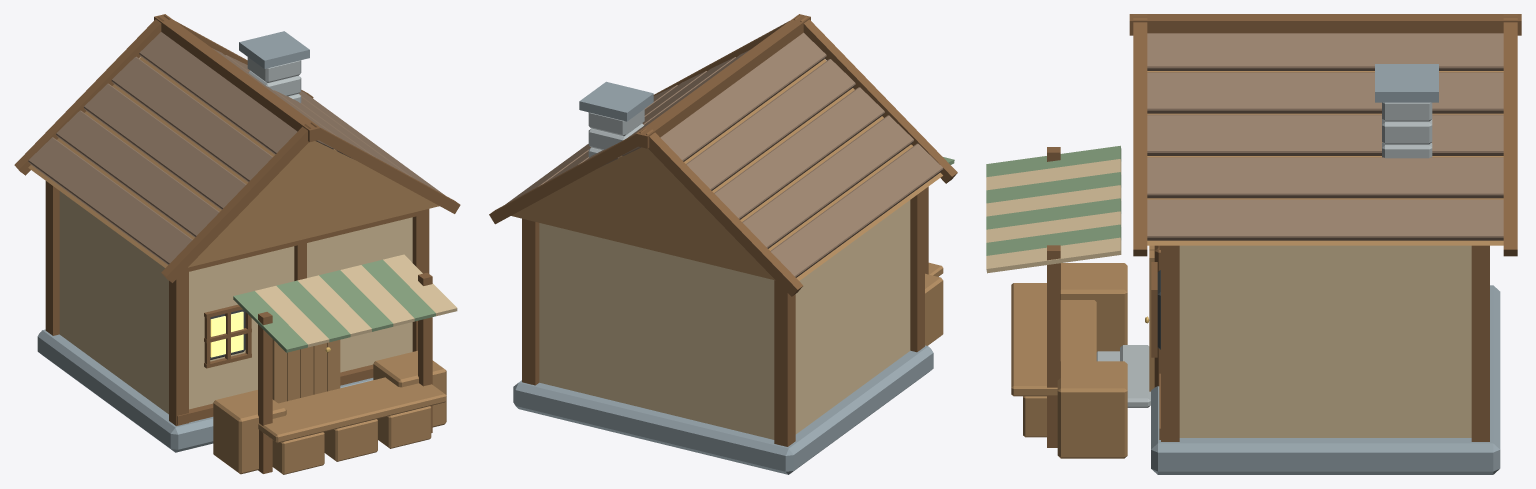
The model's file is PetKeeper.glb.
The picture shows the model from 3 angles, left to right: view 1: azimuth 30°, elevation 25°; view 2: azimuth 150°, elevation 25°; view 3: azimuth 270°, elevation 25°; orthographic projection. The views are drawn at different scales.
Parts seen in each view (by area): view 1: PlasterWalls, Gable, Counter, StoneFoundation, PetCrate, Ridge, GableTrim, CornerPost, GableTrim.001, CornerPost.002, AwningPost, GableTrim.002 (+55 smaller); view 2: PlasterWalls, Gable, StoneFoundation, Ridge, GableTrim.001, CornerPost.002, CornerPost.003, GableTrim, CornerPost, GableTrim.003, ChimneyCap, PetCrate (+33 smaller); view 3: PlasterWalls, StoneFoundation, Ridge, PetCrate.001, Counter, Gable, PetCrate, CornerPost.001, CornerPost.003, GableTrim.002, GableTrim.003, RoofShingle.037 (+44 smaller).
Boxes of the visible parts, x1,y1,x2,y2 form: PlasterWalls: (59,191,412,414); Gable: (28,57,439,267); Counter: (258,377,446,443); StoneFoundation: (37,329,373,452); PetCrate: (213,390,286,474); Ridge: (154,14,320,142); GableTrim: (161,124,310,282); CornerPost: (169,272,188,425); GableTrim.001: (14,16,163,175); CornerPost.002: (45,181,59,335); AwningPost: (258,312,272,473); GableTrim.002: (310,122,460,213); PlasterWalls: (539,200,910,439); Gable: (511,59,942,280); StoneFoundation: (513,345,933,474); Ridge: (636,14,810,148); GableTrim.001: (646,129,803,296); CornerPost.002: (774,280,795,446); CornerPost.003: (522,218,539,385); GableTrim: (800,16,957,183); CornerPost: (910,189,924,352); GableTrim.003: (489,128,646,224); ChimneyCap: (579,81,653,121); PetCrate: (925,273,943,345); PlasterWalls: (1179,245,1471,437); StoneFoundation: (1151,285,1500,474); Ridge: (1129,14,1521,35); PetCrate.001: (1057,361,1127,458); Counter: (1011,283,1096,396); Gable: (1147,71,1503,245); PetCrate: (1060,263,1127,351); CornerPost.001: (1161,245,1179,441); CornerPost.003: (1471,245,1489,441); GableTrim.002: (1133,18,1147,256); GableTrim.003: (1503,18,1517,256); RoofShingle.037: (1205,72,1265,113).
Bounding box in the file's own units: 11.02 × 10.79 × 13.79.
